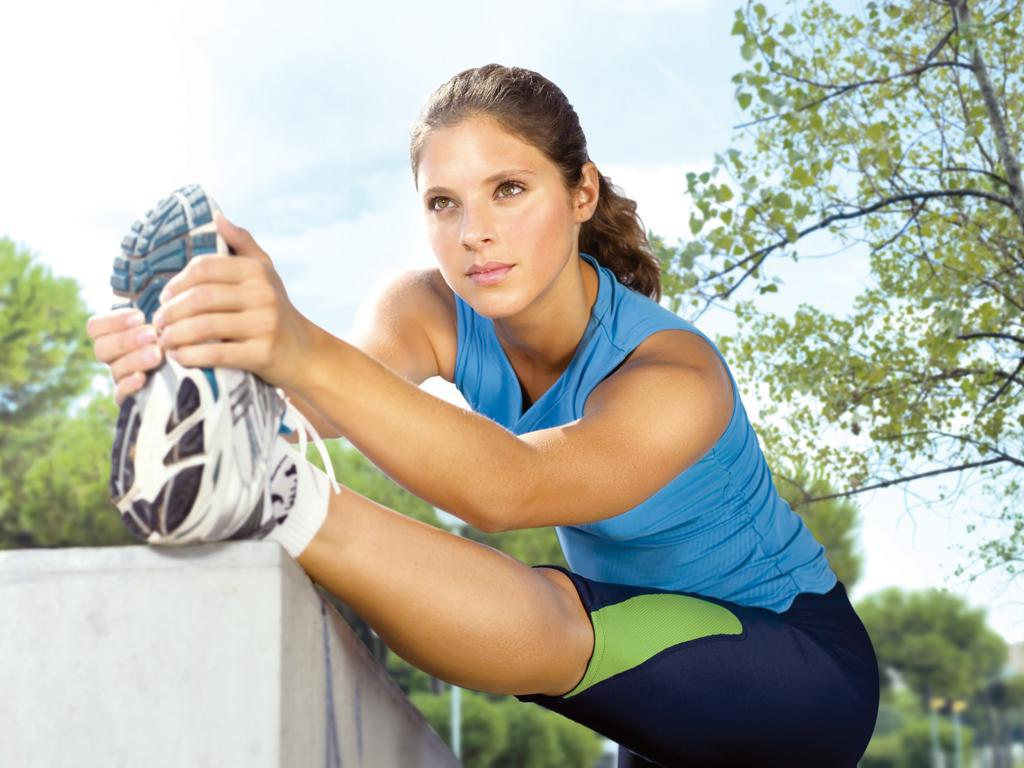face: (419, 123, 577, 321)
